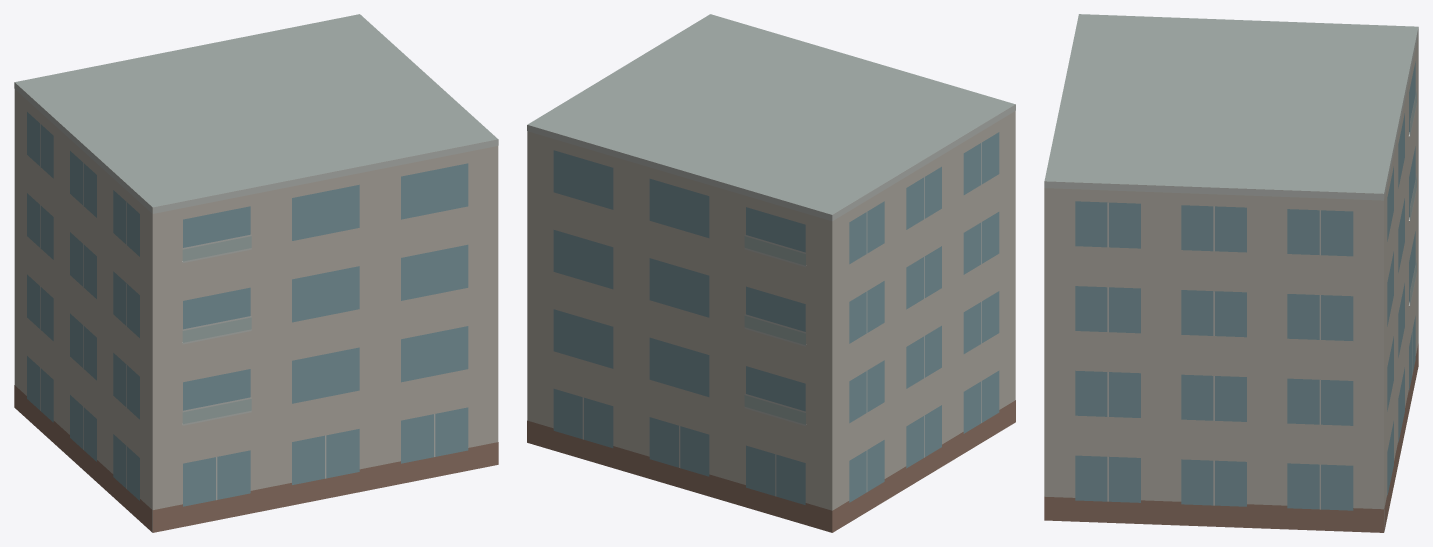
The model's file is residential-882bd869-eac3-4d3d-81a6-fcad07d5c9e9.glb.
3 views of the same model, side by side, from view 1: azimuth 30°, elevation 25°; view 2: azimuth 150°, elevation 25°; view 3: azimuth 270°, elevation 25° (orthographic). The views are drawn at different scales.
Visible parts, largest first — view 1: residential-882bd869-eac3-4d3d-81a6-fcad07d5c9e9.tmp; view 2: residential-882bd869-eac3-4d3d-81a6-fcad07d5c9e9.tmp; view 3: residential-882bd869-eac3-4d3d-81a6-fcad07d5c9e9.tmp.
Part boxes in pixels (x1=…): residential-882bd869-eac3-4d3d-81a6-fcad07d5c9e9.tmp: x1=14, y1=14, x2=498, y2=532; residential-882bd869-eac3-4d3d-81a6-fcad07d5c9e9.tmp: x1=527, y1=14, x2=1015, y2=532; residential-882bd869-eac3-4d3d-81a6-fcad07d5c9e9.tmp: x1=1044, y1=14, x2=1418, y2=532.
Size of the model in its own units: 13.89 by 12.2 by 12.21.
